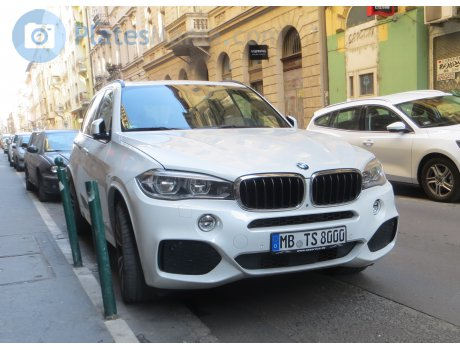License Plates: (269, 226, 349, 247)
